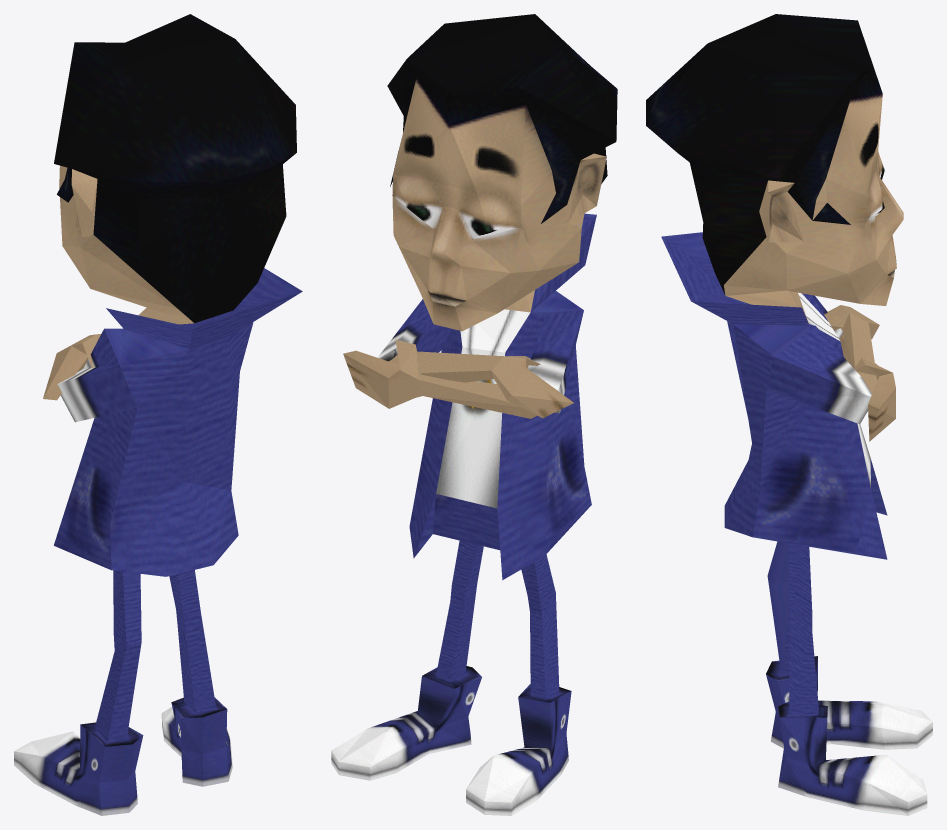
Rendered from nickstop.glb.
The picture shows the model from 3 angles, left to right: view 1: azimuth 30°, elevation 25°; view 2: azimuth 150°, elevation 25°; view 3: azimuth 270°, elevation 25°; orthographic projection. The views are drawn at different scales.
Visible parts, largest first — view 1: nickstop; view 2: nickstop; view 3: nickstop.
Part boxes in pixels (x1,y1,x2,y2): nickstop: [14, 14, 302, 815]; nickstop: [331, 14, 617, 815]; nickstop: [646, 14, 932, 815].
Bounding box in the file's own units: 74.34 × 221 × 78.83.
1 material, 1 textured.
